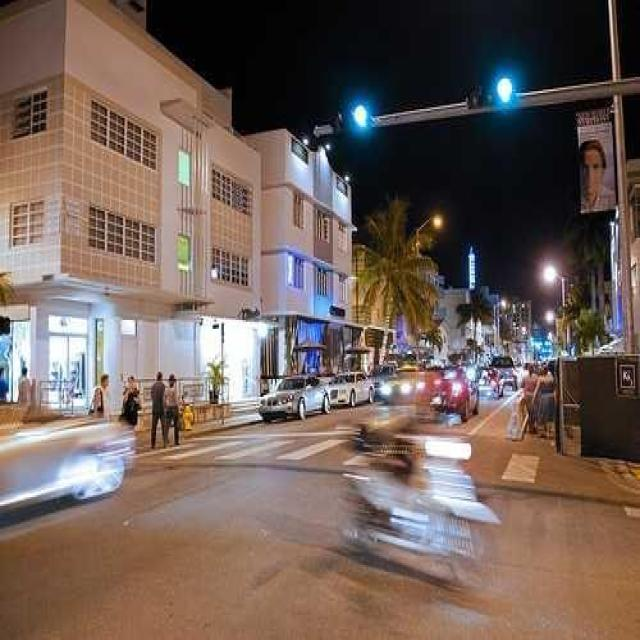Traffic Light -Green-: (462, 71, 520, 114), (324, 100, 374, 136)
